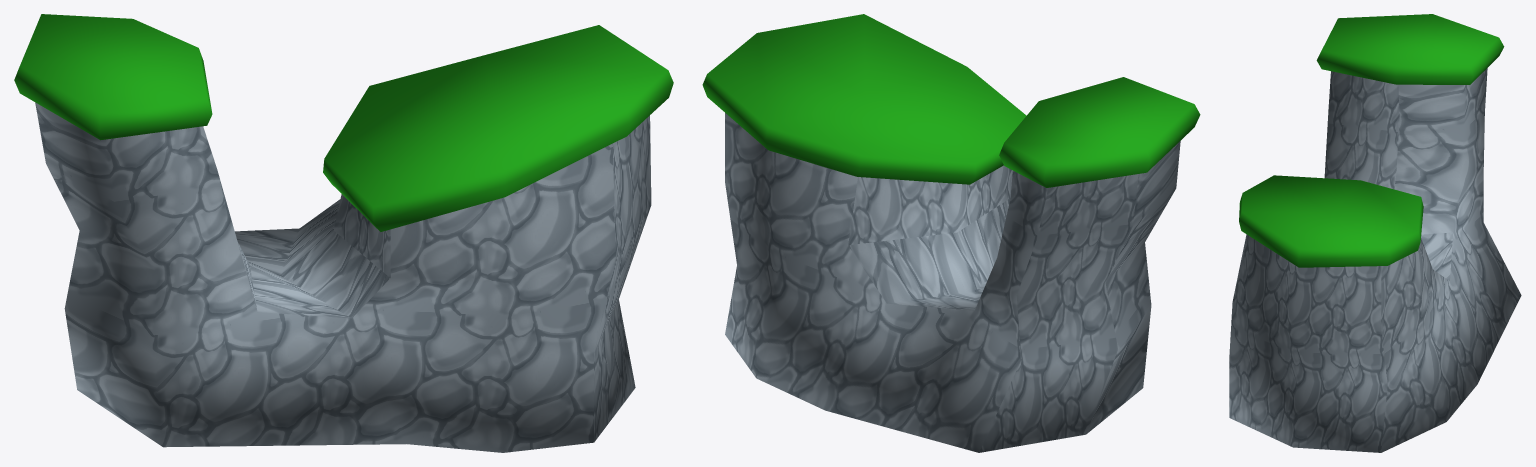
File: TestGeometryMountain.FBX
3 renders of one model, left to right at view 1: azimuth 30°, elevation 25°; view 2: azimuth 150°, elevation 25°; view 3: azimuth 270°, elevation 25°, orthographic. The views are drawn at different scales.
Visible parts, largest first — view 1: Box001; view 2: Box001; view 3: Box001.
Boxes of the visible parts, x1=… form: Box001: x1=14, y1=14, x2=673, y2=452; Box001: x1=702, y1=14, x2=1200, y2=452; Box001: x1=1229, y1=14, x2=1521, y2=452.
Size of the model in its own units: 2753 by 1787 by 1750.
